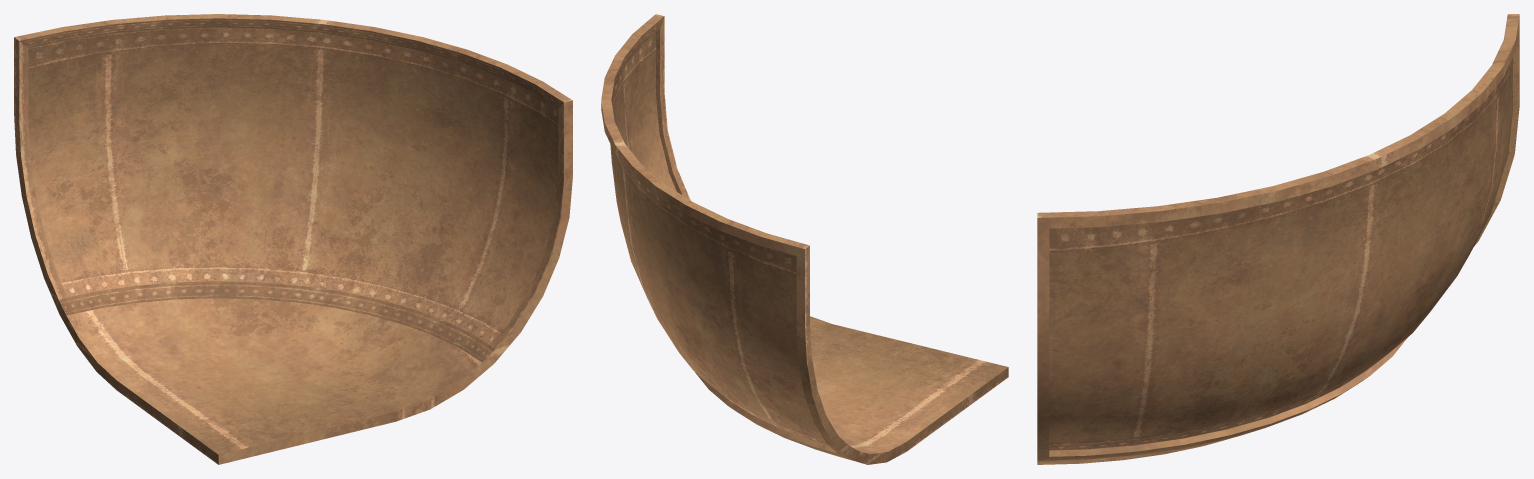
The model's file is Big_Wall_Corner_A.fbx.
3 views of the same model, side by side, from view 1: azimuth 30°, elevation 25°; view 2: azimuth 150°, elevation 25°; view 3: azimuth 270°, elevation 25° (orthographic). The views are drawn at different scales.
Visible parts, largest first — view 1: Big_Wall_Corner_A; view 2: Big_Wall_Corner_A; view 3: Big_Wall_Corner_A.
Part boxes in pixels (left/top/right/bottom): Big_Wall_Corner_A: left=14, top=14, right=572, bottom=464; Big_Wall_Corner_A: left=601, top=14, right=1008, bottom=464; Big_Wall_Corner_A: left=1037, top=14, right=1519, bottom=464.
Bounding box in the file's own units: 4 × 3 × 4.
